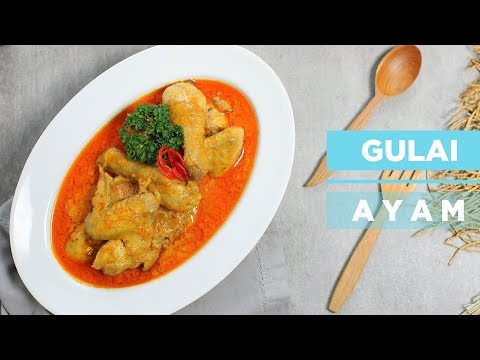gulai_ayam: (25, 70, 272, 300)
